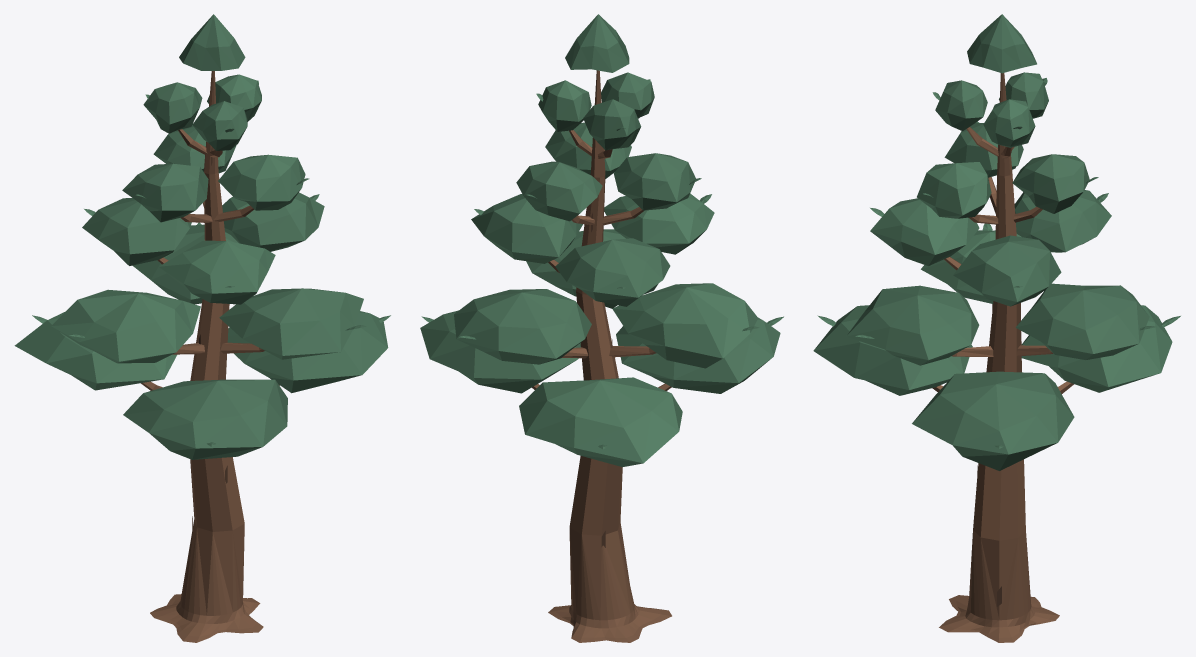
Rendered from pine_young.glb.
The picture shows the model from 3 angles, left to right: view 1: azimuth 30°, elevation 25°; view 2: azimuth 150°, elevation 25°; view 3: azimuth 270°, elevation 25°; orthographic projection.
Parts seen in each view (by area): view 1: leaves, branches; view 2: leaves, branches; view 3: leaves, branches.
Part boxes in pixels (<box>): leaves: <box>14,14,390,459</box>; branches: <box>141,71,279,642</box>; leaves: <box>420,14,783,467</box>; branches: <box>532,70,671,642</box>; leaves: <box>813,14,1180,470</box>; branches: <box>932,73,1073,642</box>.
Size of the model in its own units: 1.15 by 2 by 1.1.
